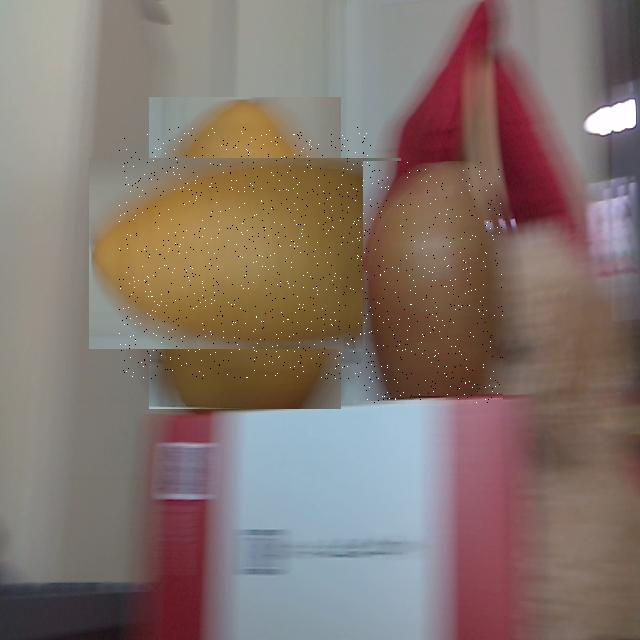apple: (363, 162, 503, 404)
pear: (119, 127, 371, 379)
